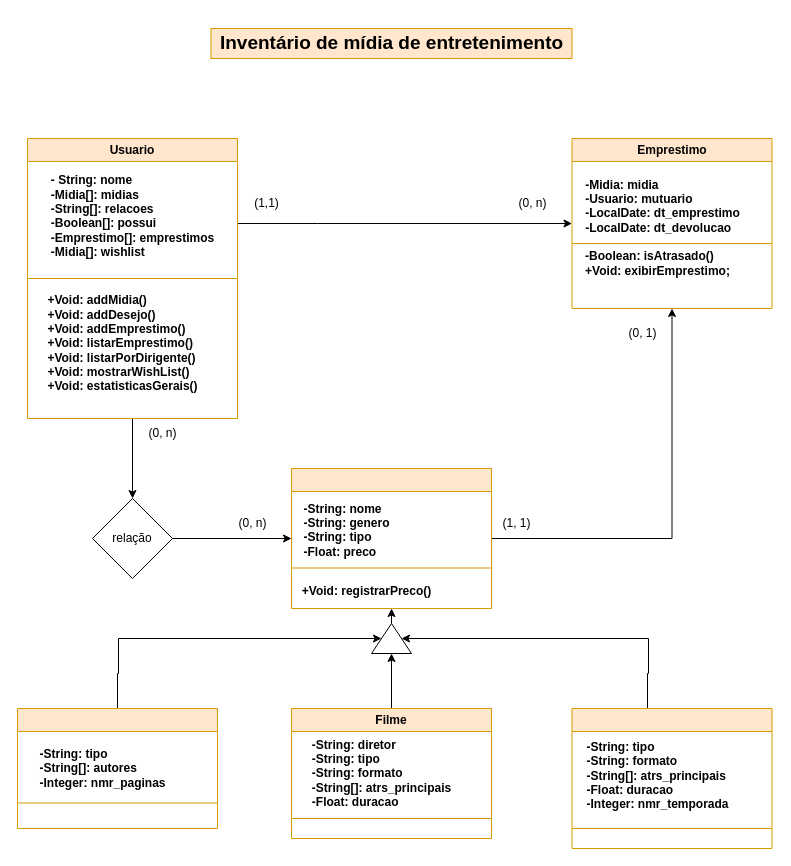
Some shapes in this 791 by 866 pixel diagram are drawn without their labels. The box of each missing label's shape, as (x1, y1, x2, y2) in pixels:
Livro: (16, 708, 218, 828)
Midia: (290, 468, 492, 608)
Serie: (571, 708, 772, 848)
